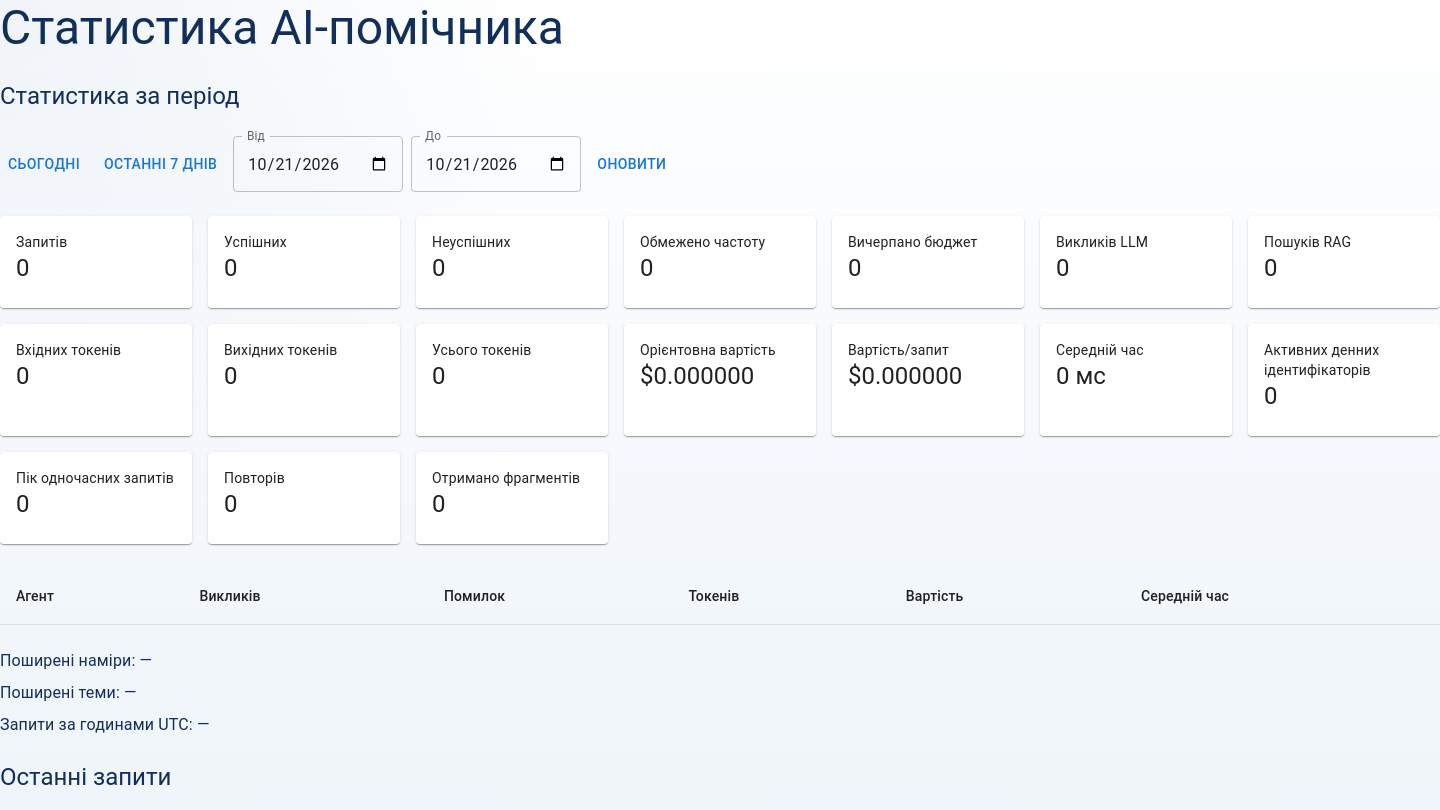
Test: does not fetch an invalid period
Type "2099-01-01" into the date field labelled "Від" at (318, 164), box x1=233 y1=136 x2=403 y2=192
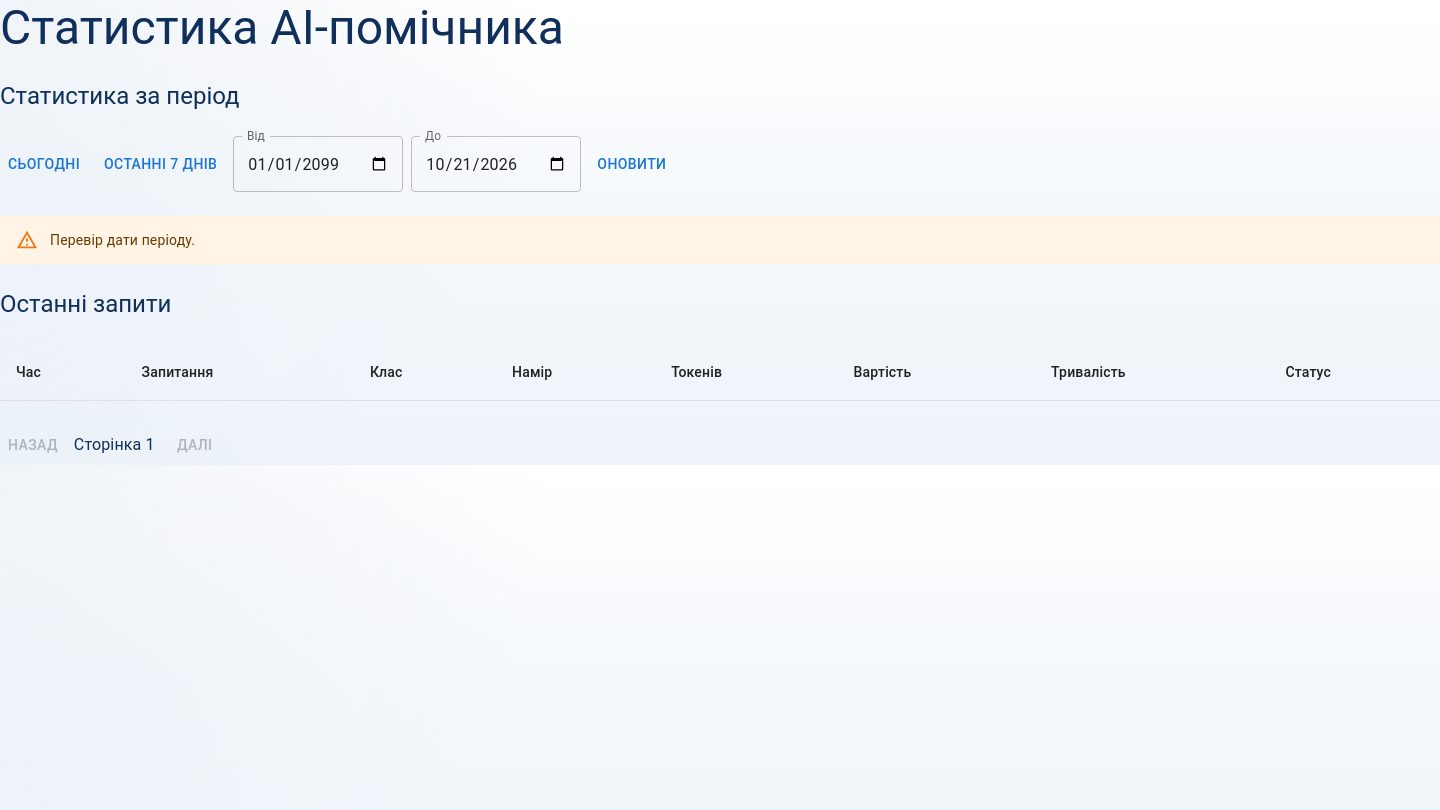
Check: the text "Перевір дати періоду." is shown, box x1=50 y1=232 x2=195 y2=248
